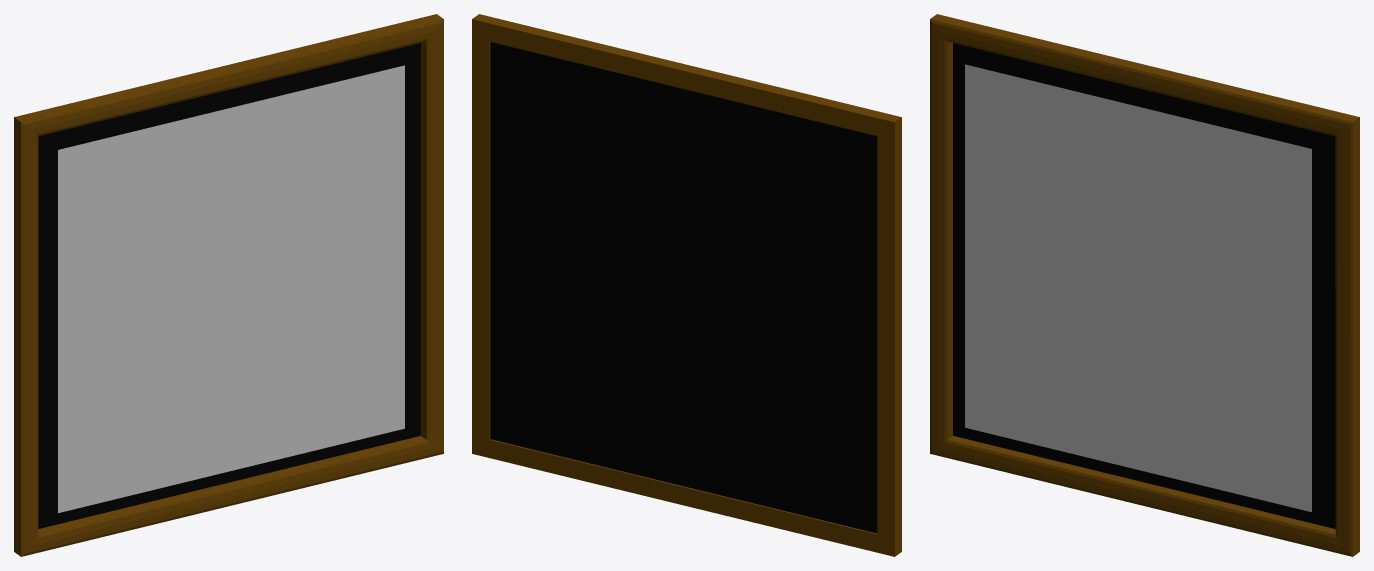
Rendered from SquirrelFrame.obj.
3 views of the same model, side by side, from view 1: azimuth 30°, elevation 25°; view 2: azimuth 150°, elevation 25°; view 3: azimuth 330°, elevation 25° (orthographic).
Visible parts, largest first — view 1: Photo_Cube_Material_Squirrel, WoodFrame_Cylinder_Wood.001, Frame_Black_Material.011; view 2: Frame_Black_Material.011, WoodFrame_Cylinder_Wood.001; view 3: Photo_Cube_Material_Squirrel, WoodFrame_Cylinder_Wood.001, Frame_Black_Material.011.
Part boxes in pixels (x1,y1,x2,y2): Photo_Cube_Material_Squirrel: (58,65,404,513); WoodFrame_Cylinder_Wood.001: (14,14,443,556); Frame_Black_Material.011: (38,43,420,528); Frame_Black_Material.011: (490,42,877,533); WoodFrame_Cylinder_Wood.001: (472,14,901,556); Photo_Cube_Material_Squirrel: (965,64,1311,512); WoodFrame_Cylinder_Wood.001: (930,14,1359,556); Frame_Black_Material.011: (953,43,1335,528).
Size of the model in its own units: 48.72 by 47.86 by 1.6.
